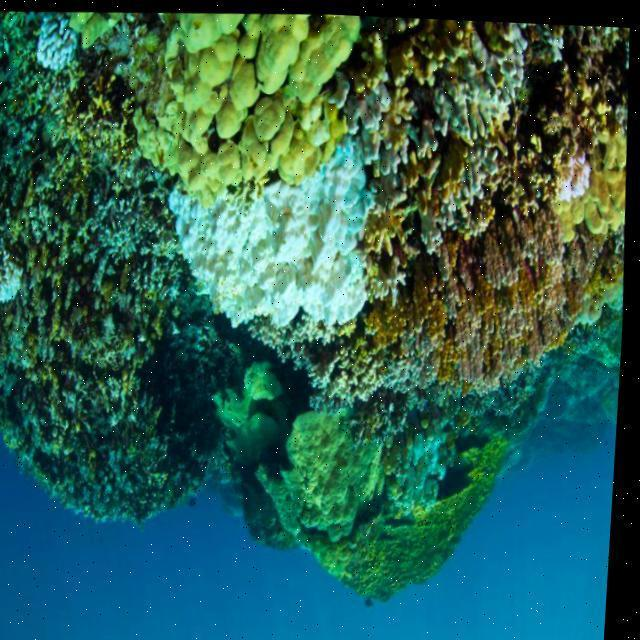Bleached Coral: (156, 150, 388, 333), (24, 10, 98, 70), (546, 147, 608, 209), (0, 245, 39, 318)
Healthy Coral: (245, 382, 516, 590), (135, 8, 342, 182), (0, 334, 209, 498)
